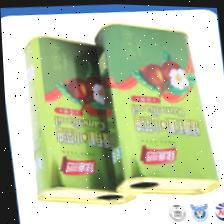metal: (86, 16, 223, 205), (5, 15, 136, 210)
